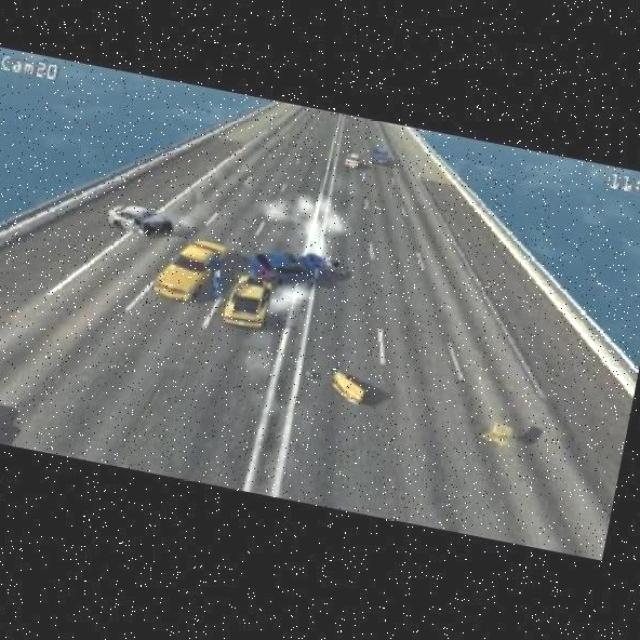accident: (213, 231, 351, 346)
